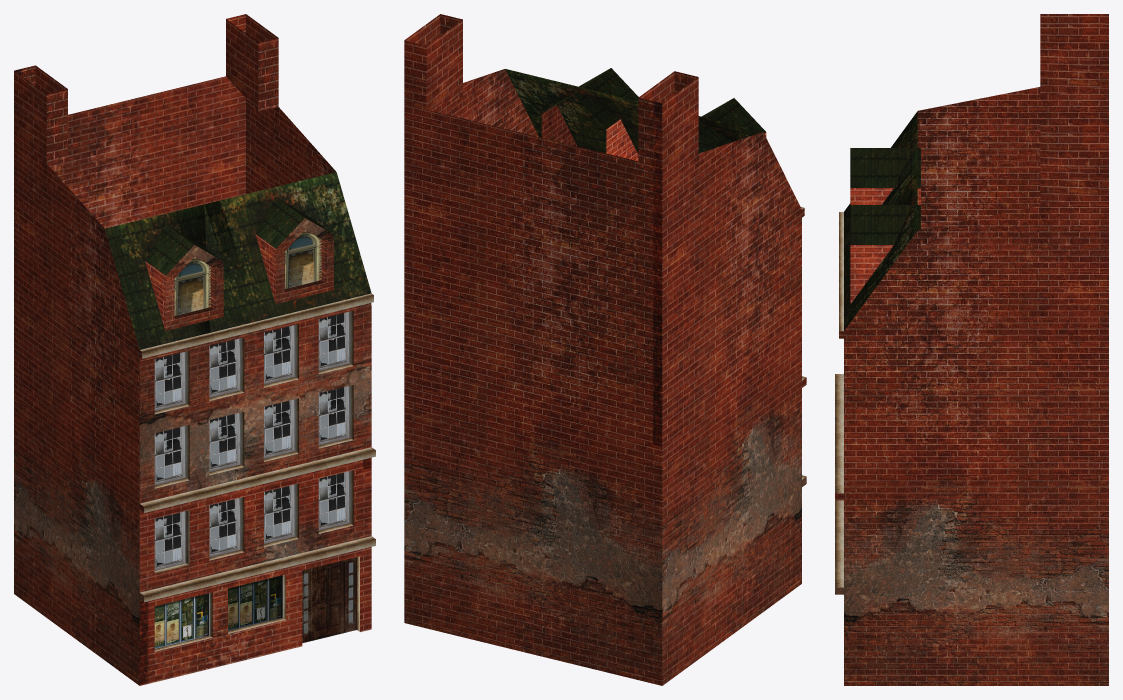
The model's file is Big_house2.FBX.
3 views of the same model, side by side, from view 1: azimuth 30°, elevation 25°; view 2: azimuth 150°, elevation 25°; view 3: azimuth 270°, elevation 25° (orthographic). The views are drawn at different scales.
Parts seen in each view (by area): view 1: B03_LOD0; view 2: B03_LOD0; view 3: B03_LOD0.
Boxes of the visible parts, box(x1,y1,x2,y2) form: B03_LOD0: box(14, 14, 375, 685); B03_LOD0: box(404, 14, 806, 685); B03_LOD0: box(835, 14, 1108, 685).
Bounding box in the file's own units: 52.88 × 114 × 51.23.
1 material, 1 textured.
